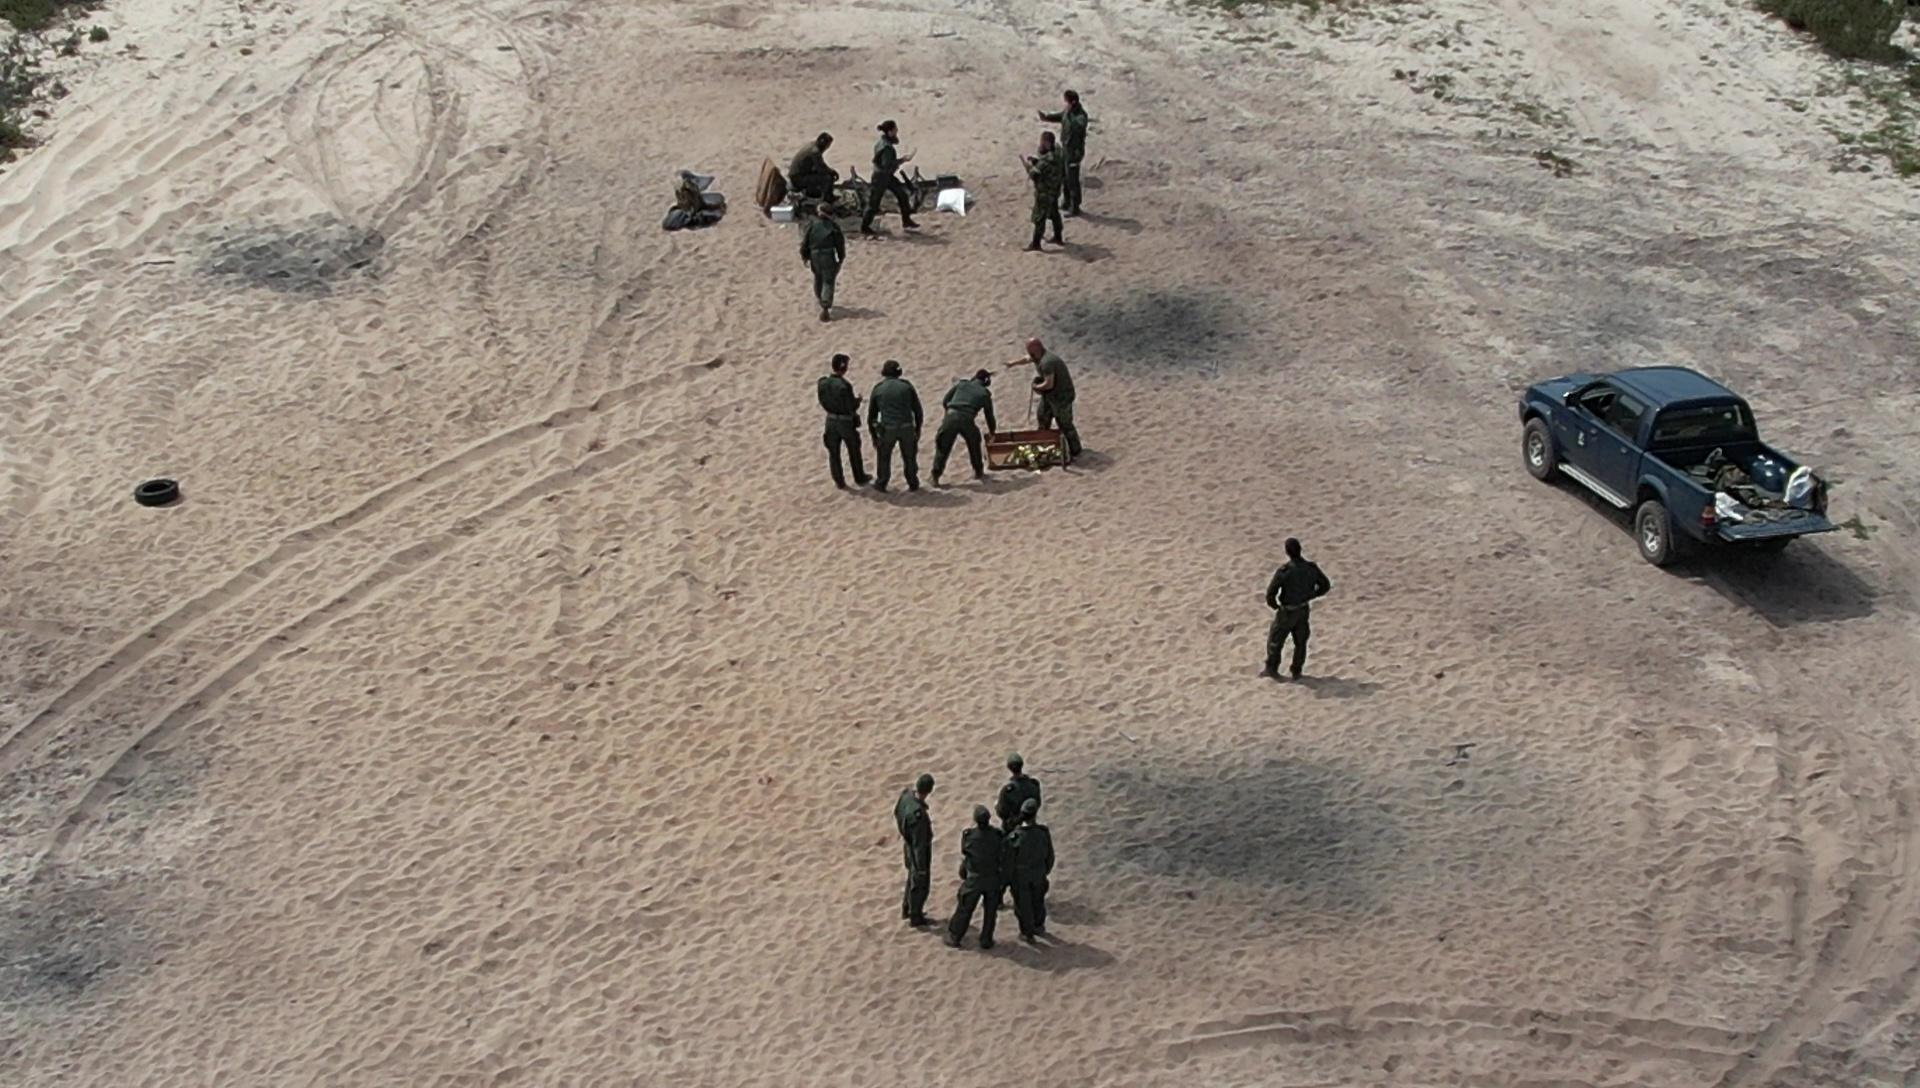Soldier: (1255, 526, 1335, 707), (822, 360, 899, 520), (887, 754, 949, 951), (982, 783, 1050, 946), (997, 789, 1058, 953), (1011, 361, 1095, 479), (856, 115, 923, 256), (942, 349, 998, 508), (778, 113, 851, 226), (870, 353, 924, 504), (1048, 73, 1102, 222), (1025, 119, 1076, 266), (795, 194, 851, 315)
